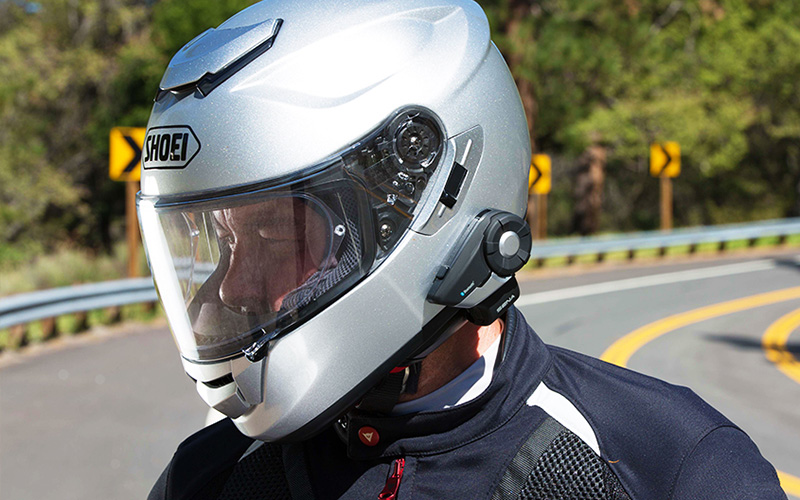helmet: (139, 11, 530, 393)
